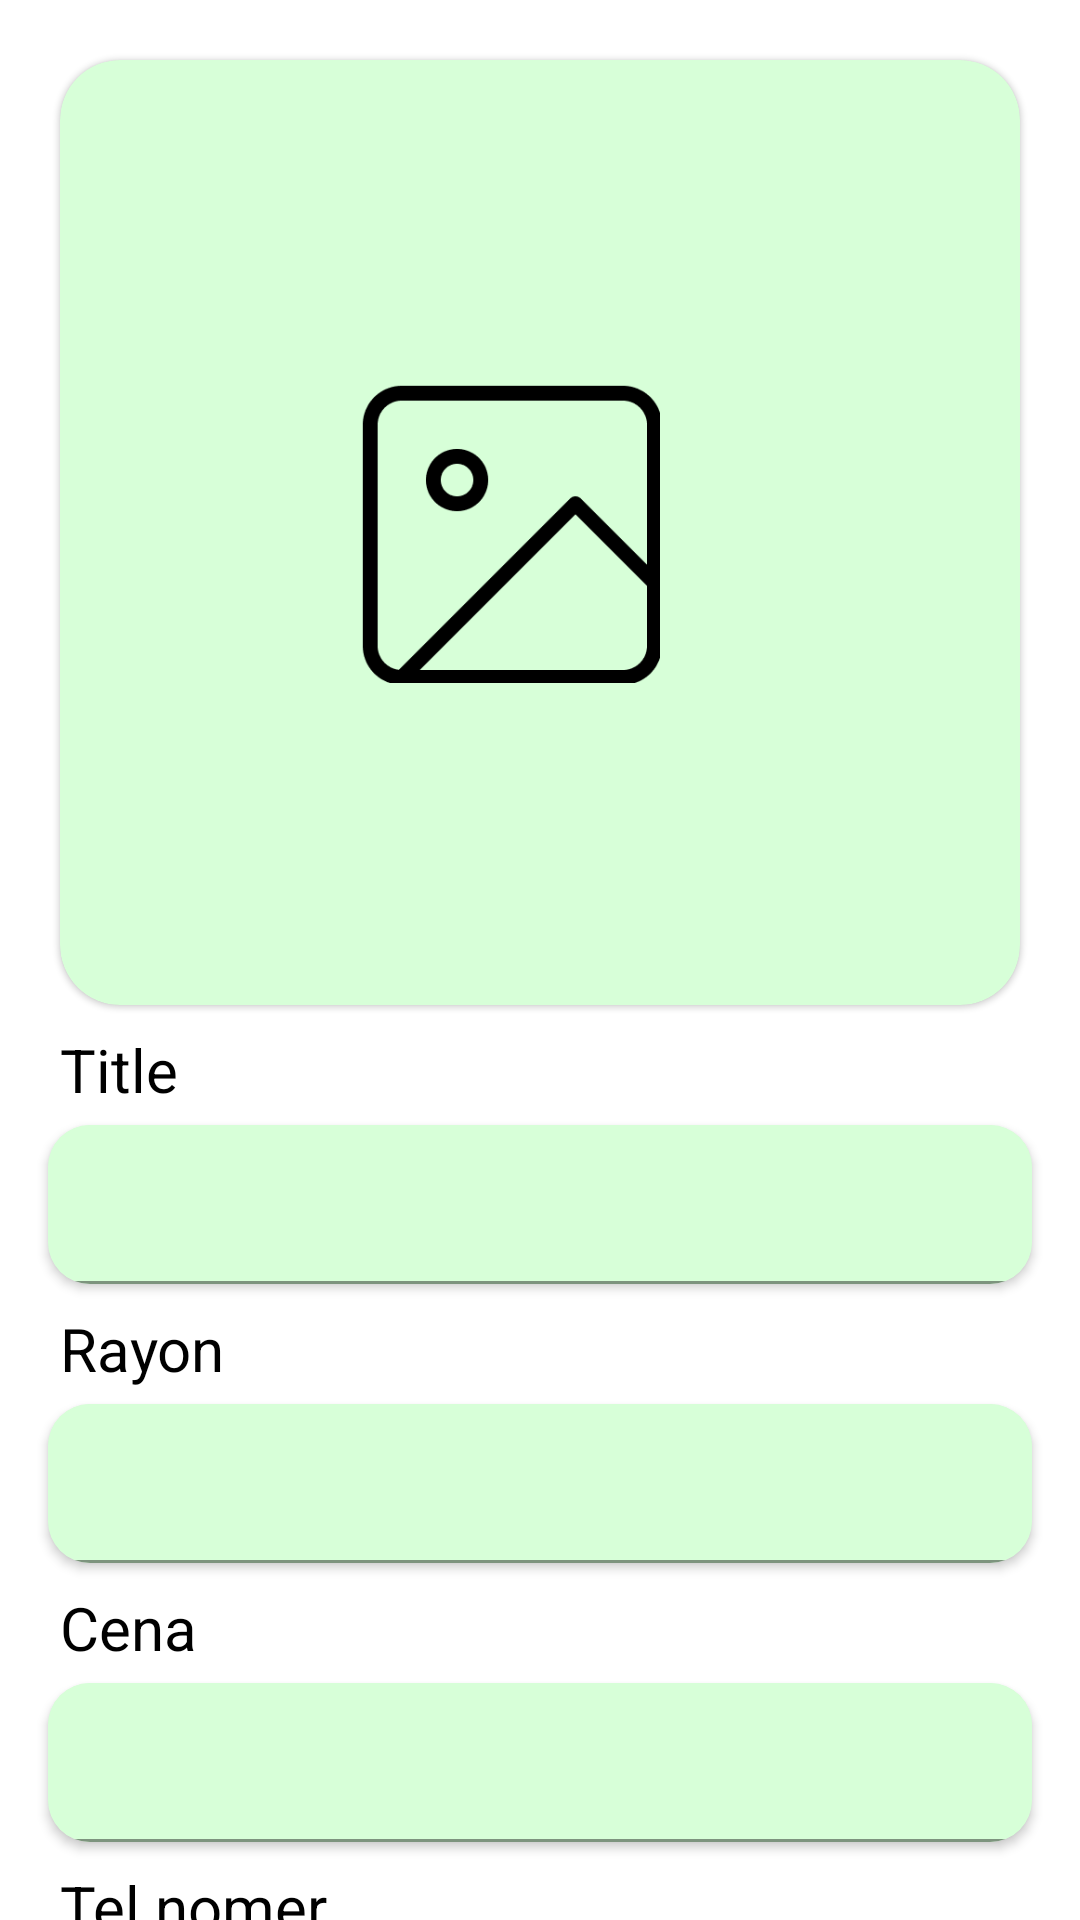

Screen size 1080*1920. Icon name, then its center in pixels as (x=x, y=y):
gallery: (x=511, y=534)
